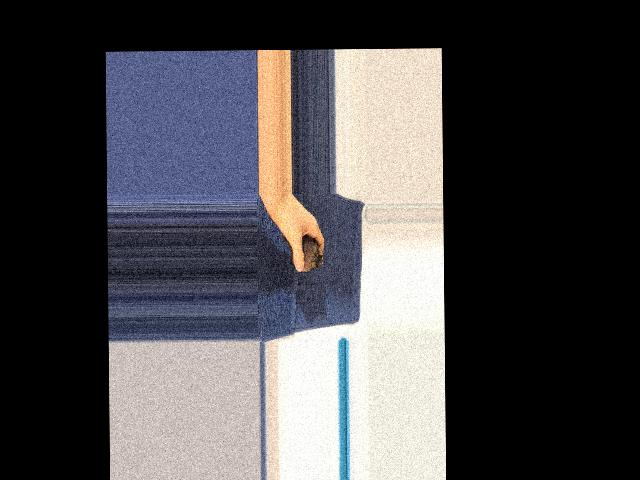beet: (279, 235, 322, 272)
